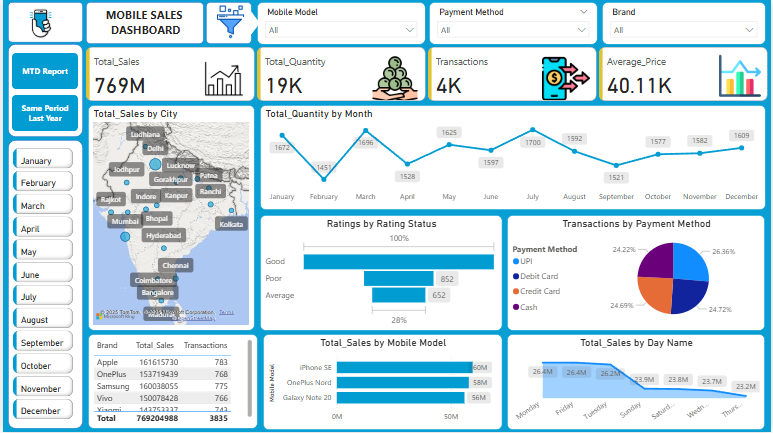

Layout of this report page (visuals, bound fields, positions):
{"tool":"powerbi","page":{"name":"Dashboard","canvas":[1280,720],"ordinal":0},"visuals":[{"type":"shape","box":[7.5,3.8,125,67.5],"z":0},{"type":"image","box":[23.8,3.8,78.8,71.2],"z":1000},{"type":"shape","box":[7.5,73.8,125,155],"z":2000},{"type":"shape","box":[7.5,232.5,125,481.2],"z":3000},{"type":"advancedSlicerVisual","fields":{"Values":["Custom_Calendar.Date.Variation.Date Hierarchy.Month"]},"box":[11.2,241.2,110,472.5],"z":4000},{"type":"cardVisual","fields":{"Data":["Sales_Data.Total_Sales","Sales_Data.Total_Quantity","Sales_Data.Transactions","Sales_Data.Average_Price"]},"box":[132.5,73.8,1147.5,100],"z":5000},{"type":"slicer","fields":{"Values":["Sales_Data.Mobile Model"]},"box":[423.8,3.8,281.2,71.2],"z":6000},{"type":"slicer","fields":{"Values":["Sales_Data.Payment Method"]},"box":[710,3.8,281.2,71.2],"z":7000},{"type":"slicer","fields":{"Values":["Sales_Data.Brand"]},"box":[997.5,3.8,272.5,71.2],"z":8000},{"type":"shape","box":[338.8,3.8,76.2,70],"z":9000},{"type":"image","box":[337.5,3.8,81.2,66.2],"z":10000},{"type":"shape","box":[397.5,17.5,30,40],"z":11000},{"type":"shape","box":[137.5,3.8,196.2,70],"z":12000},{"type":"textbox","box":[156.2,6.2,162.5,63.8],"z":13000},{"type":"map","fields":{"Category":["Sales_Data.City"],"Size":["Sales_Data.Total_Sales"]},"box":[141.2,175,277.5,376.2],"z":14000},{"type":"lineChart","fields":{"Y":["Sales_Data.Total_Quantity"],"Category":["Custom_Calendar.Date.Variation.Date Hierarchy.Month"]},"box":[427.5,175,842.5,175],"z":15000},{"type":"funnel","title":"Ratings by Rating Status","fields":{"Y":["CountNonNull(Sales_Data.Customer Ratings)"],"Category":["Sales_Data.Rating Status"]},"box":[427.5,358.8,403.8,192.5],"z":16000},{"type":"pieChart","fields":{"Y":["Sales_Data.Transactions"],"Category":["Sales_Data.Payment Method"]},"box":[840,358.8,430,192.5],"z":17000},{"type":"clusteredBarChart","fields":{"Y":["Sales_Data.Total_Sales"],"Category":["Sales_Data.Mobile Model"]},"box":[433.8,556.2,398.8,160],"z":18000},{"type":"areaChart","fields":{"Y":["Sales_Data.Total_Sales"],"Category":["Custom_Calendar.Day Name"]},"box":[840,556.2,430,160],"z":19000},{"type":"tableEx","fields":{"Values":["Sales_Data.Brand","Sales_Data.Total_Sales","Sales_Data.Transactions"]},"box":[141.2,556.2,282.5,157.5],"z":20000},{"type":"pageNavigator","box":[15,88.8,110,130],"z":21000}]}

Visuals, with their boxes in screenshot pixels (x1, y1, x2, y2), scaled from the page's 1280x720 canvas onto the 773x433 screenshot:
shape: {"x1": 5, "y1": 2, "x2": 80, "y2": 43}
image: {"x1": 14, "y1": 2, "x2": 62, "y2": 45}
shape: {"x1": 5, "y1": 44, "x2": 80, "y2": 138}
shape: {"x1": 5, "y1": 140, "x2": 80, "y2": 429}
advancedSlicerVisual - Custom_Calendar.Date.Variation.Date Hierarchy.Month: {"x1": 7, "y1": 145, "x2": 73, "y2": 429}
cardVisual - Sales_Data.Total_Sales x Sales_Data.Total_Quantity: {"x1": 80, "y1": 44, "x2": 772, "y2": 105}
slicer - Sales_Data.Mobile Model: {"x1": 256, "y1": 2, "x2": 426, "y2": 45}
slicer - Sales_Data.Payment Method: {"x1": 429, "y1": 2, "x2": 599, "y2": 45}
slicer - Sales_Data.Brand: {"x1": 602, "y1": 2, "x2": 767, "y2": 45}
shape: {"x1": 205, "y1": 2, "x2": 251, "y2": 44}
image: {"x1": 204, "y1": 2, "x2": 253, "y2": 42}
shape: {"x1": 240, "y1": 11, "x2": 258, "y2": 35}
shape: {"x1": 83, "y1": 2, "x2": 202, "y2": 44}
textbox: {"x1": 94, "y1": 4, "x2": 192, "y2": 42}
map - Sales_Data.City x Sales_Data.Total_Sales: {"x1": 85, "y1": 105, "x2": 253, "y2": 331}
lineChart - Sales_Data.Total_Quantity x Custom_Calendar.Date.Variation.Date Hierarchy.Month: {"x1": 258, "y1": 105, "x2": 767, "y2": 210}
"Ratings by Rating Status" funnel: {"x1": 258, "y1": 216, "x2": 502, "y2": 332}
pieChart - Sales_Data.Transactions x Sales_Data.Payment Method: {"x1": 507, "y1": 216, "x2": 767, "y2": 332}
clusteredBarChart - Sales_Data.Total_Sales x Sales_Data.Mobile Model: {"x1": 262, "y1": 334, "x2": 503, "y2": 431}
areaChart - Sales_Data.Total_Sales x Custom_Calendar.Day Name: {"x1": 507, "y1": 334, "x2": 767, "y2": 431}
tableEx - Sales_Data.Brand x Sales_Data.Total_Sales: {"x1": 85, "y1": 334, "x2": 256, "y2": 429}
pageNavigator: {"x1": 9, "y1": 53, "x2": 75, "y2": 132}
